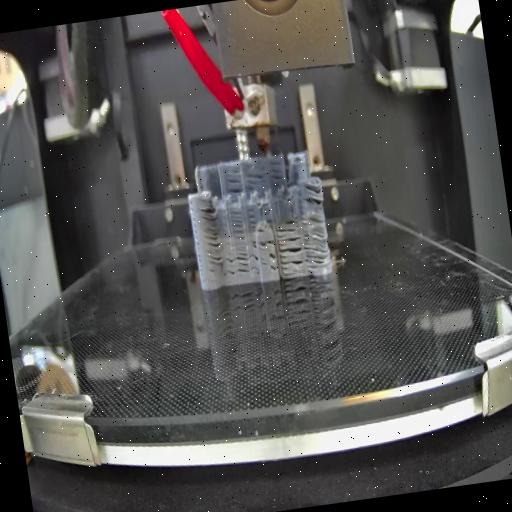cracks: (302, 216, 332, 270), (200, 206, 222, 265), (278, 235, 305, 275), (301, 181, 325, 207), (248, 238, 260, 278), (234, 250, 252, 276), (231, 210, 245, 243), (274, 216, 296, 236), (224, 177, 242, 194), (268, 165, 282, 186), (224, 254, 236, 276), (268, 253, 278, 274), (262, 203, 272, 224), (258, 238, 277, 249), (247, 209, 257, 229), (245, 170, 264, 180), (256, 228, 268, 236)
